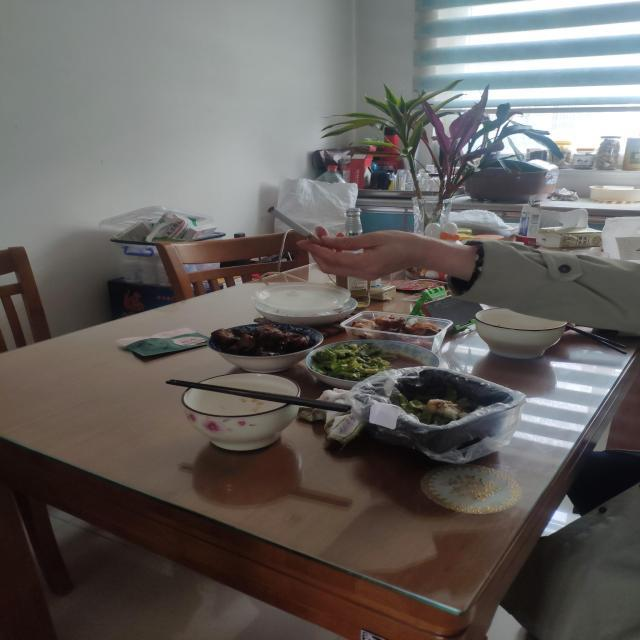smoking: (266, 206, 328, 249)
